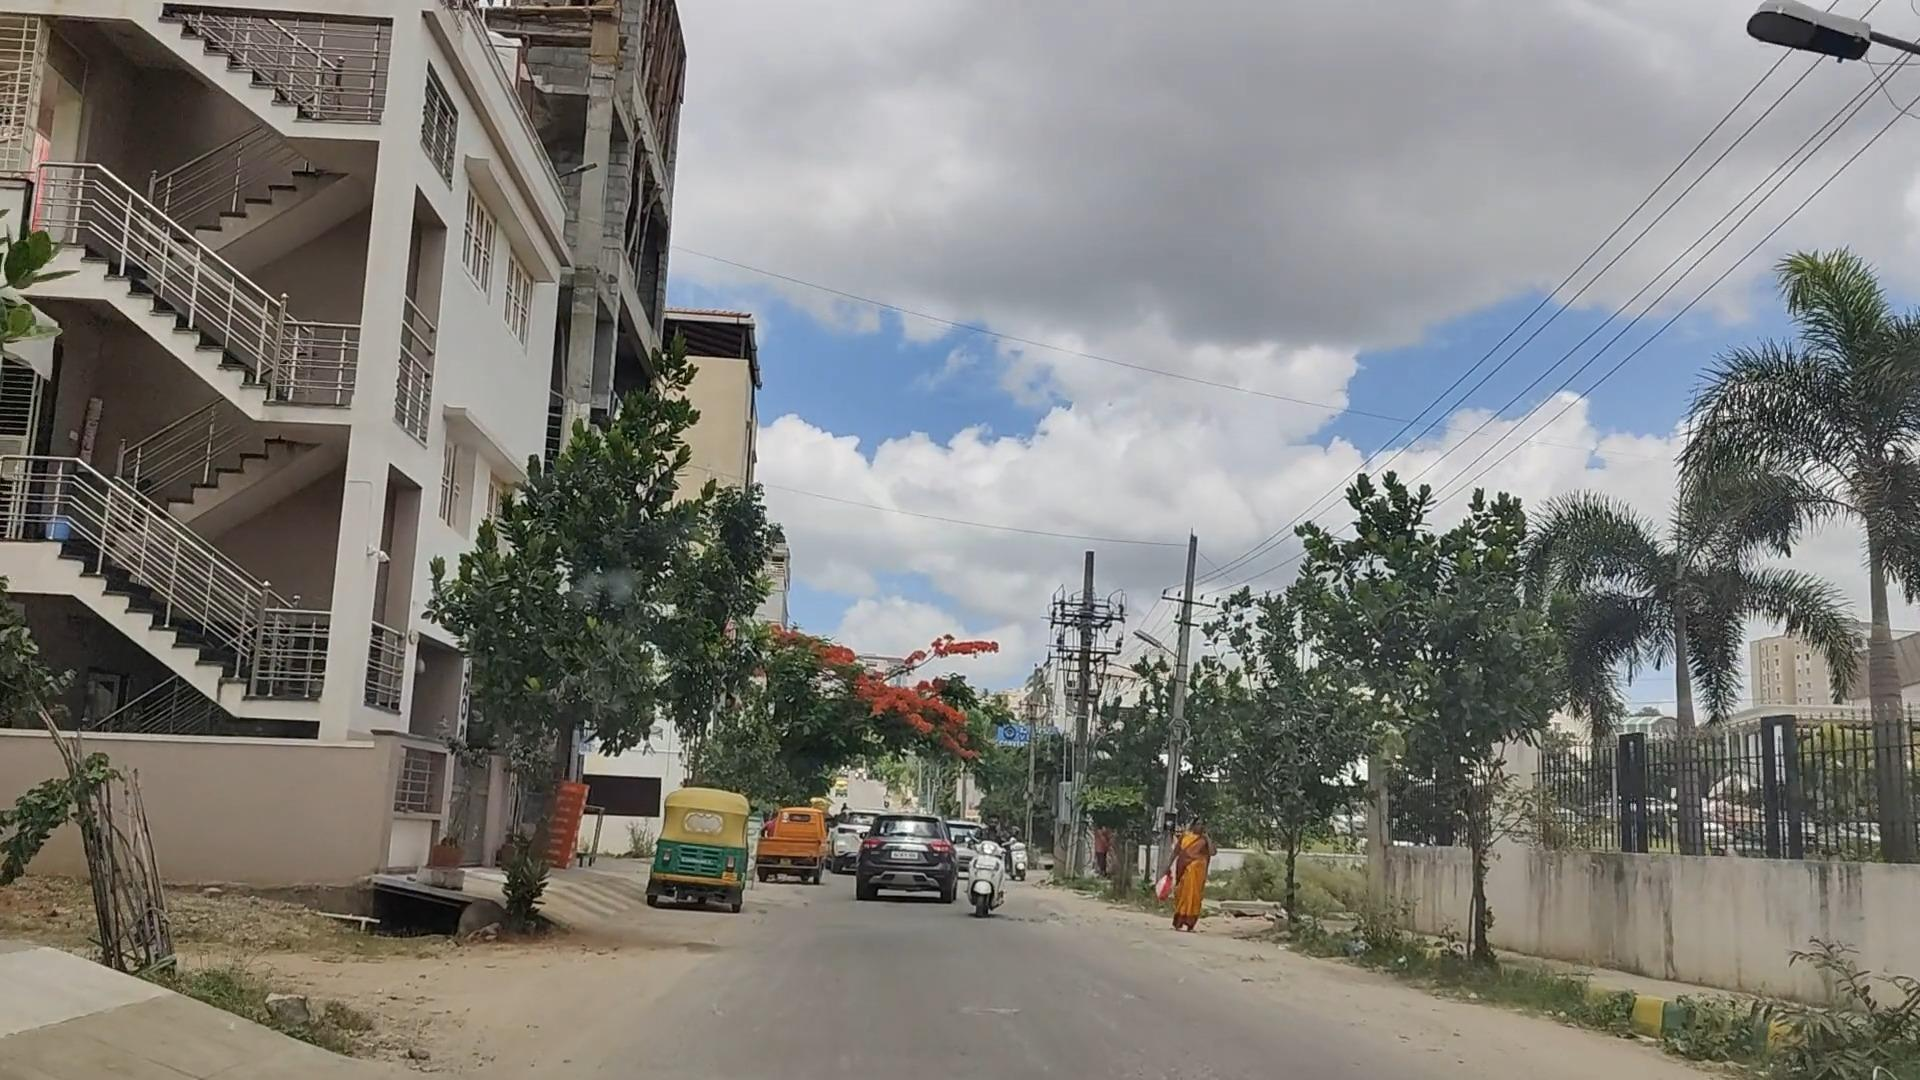RoadDamages: (1009, 897, 1091, 953)
